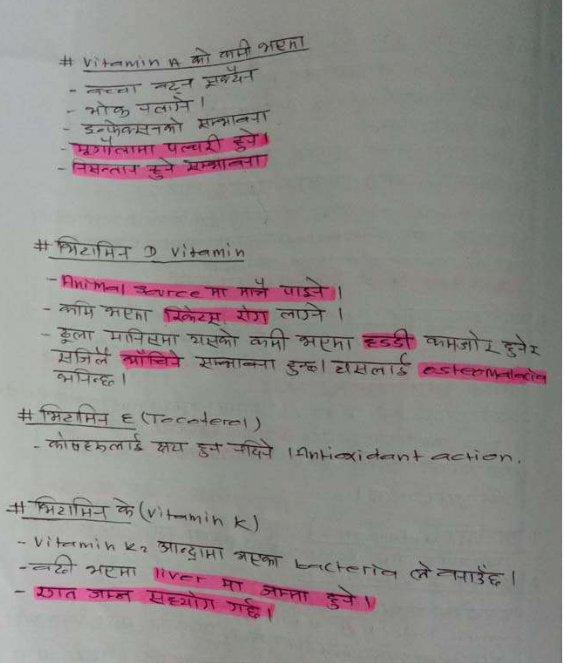text: (47, 432, 146, 455), (72, 137, 158, 162), (53, 234, 131, 261), (29, 494, 107, 521), (149, 587, 219, 617), (424, 331, 501, 358), (435, 562, 505, 591), (38, 400, 112, 427), (326, 354, 409, 378), (82, 118, 186, 137), (154, 538, 224, 564), (196, 352, 277, 373), (107, 327, 179, 348), (200, 66, 258, 90), (295, 331, 353, 355), (196, 110, 270, 128), (163, 134, 221, 156), (53, 368, 116, 388), (182, 155, 264, 170), (121, 349, 182, 369), (165, 305, 220, 327), (279, 276, 327, 301), (260, 584, 314, 606), (84, 561, 140, 582), (189, 327, 240, 350), (135, 95, 193, 115), (275, 301, 330, 322), (232, 437, 277, 462), (30, 552, 75, 577), (55, 347, 109, 367), (72, 162, 139, 178), (104, 302, 151, 324), (365, 328, 412, 350), (255, 33, 304, 53), (225, 597, 261, 624), (325, 583, 356, 614), (36, 583, 77, 606), (249, 327, 288, 351), (231, 550, 283, 568), (84, 83, 142, 99), (216, 38, 254, 62), (88, 587, 133, 607), (57, 297, 96, 320), (233, 303, 270, 326), (86, 99, 130, 118), (235, 278, 272, 300), (152, 77, 196, 95), (57, 325, 96, 345), (501, 332, 529, 359), (230, 127, 259, 153), (284, 357, 318, 377), (146, 159, 175, 182), (109, 494, 134, 520), (407, 561, 432, 584), (187, 44, 212, 66), (197, 438, 223, 459), (219, 577, 246, 595), (154, 441, 186, 456), (206, 285, 230, 301)
